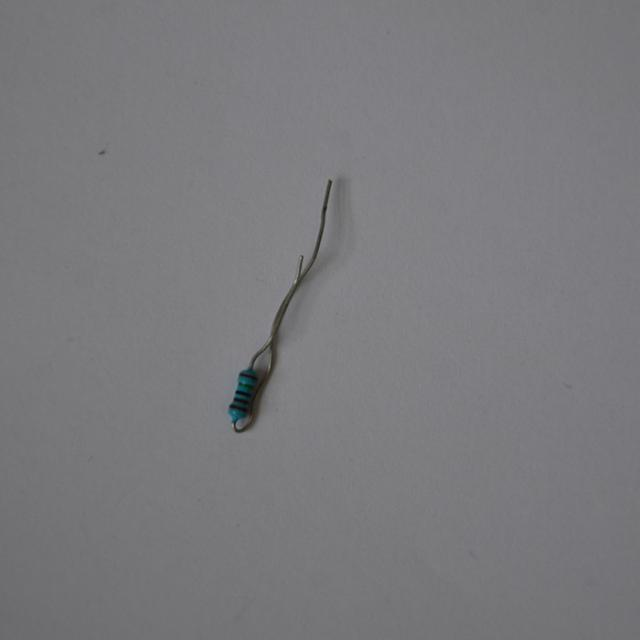black: (235, 389, 251, 397)
brown: (239, 371, 257, 381), (230, 404, 248, 413), (233, 398, 250, 403)
green: (238, 382, 254, 389)
resistor: (221, 364, 263, 422)
